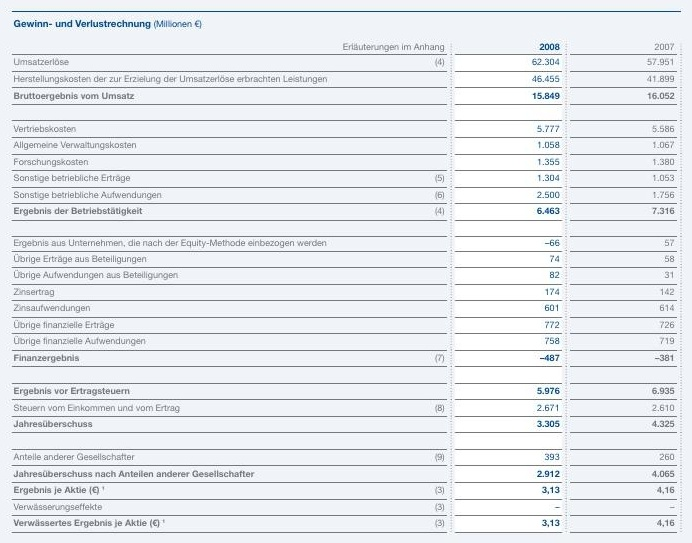table: (0, 0, 692, 543)
